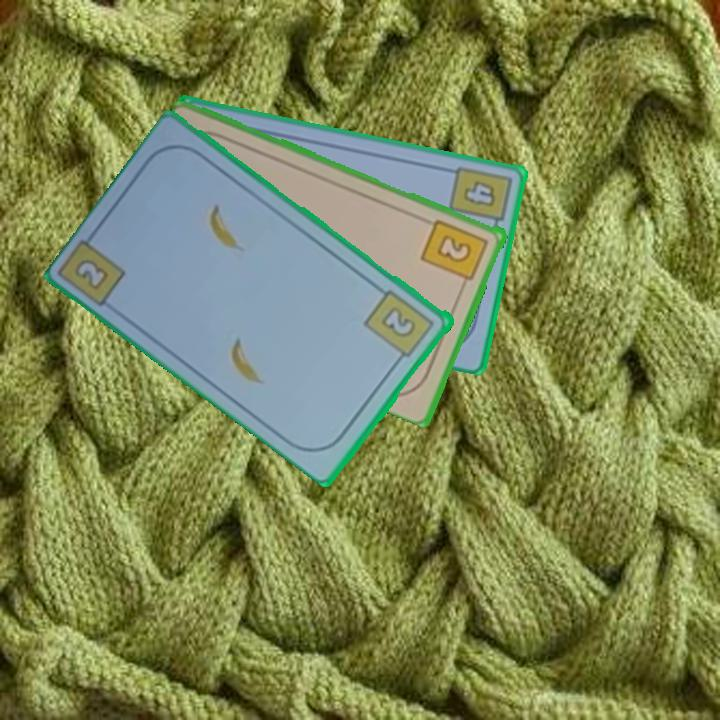2b: (361, 286, 438, 367), (418, 215, 492, 291), (71, 255, 113, 293)
4b: (445, 161, 515, 235)
